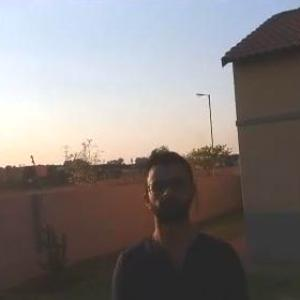follow: (107, 138, 255, 299)
